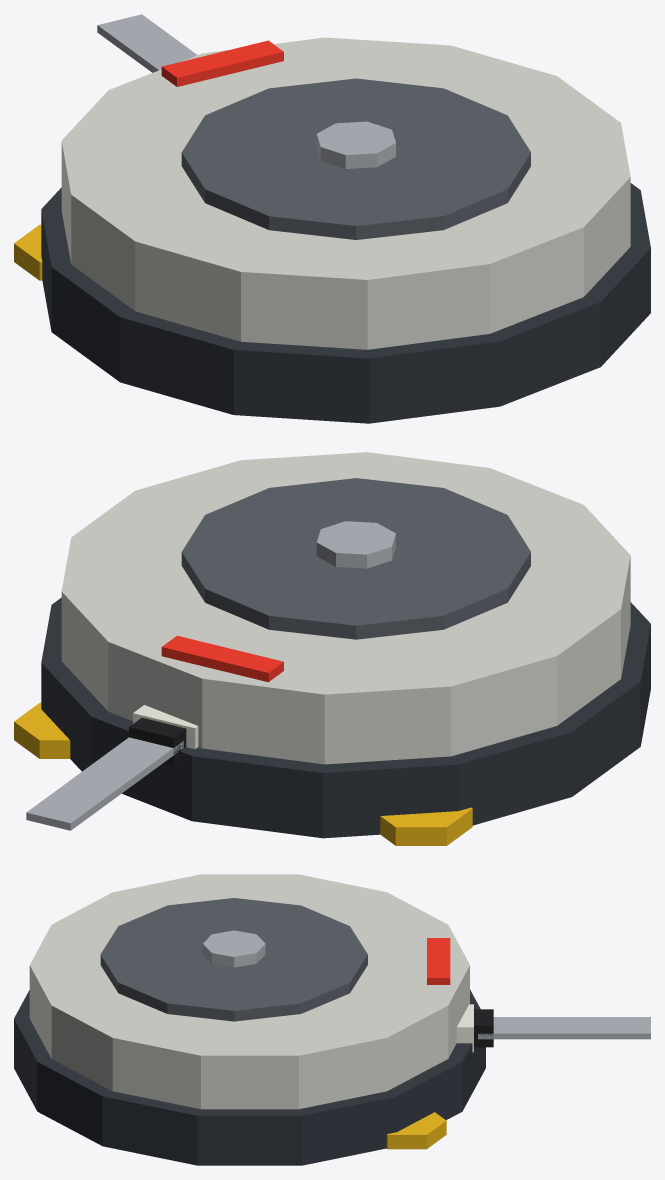
File: enemy_roomba.glb
The picture shows the model from 3 angles, top to bottom: view 1: azimuth 30°, elevation 25°; view 2: azimuth 150°, elevation 25°; view 3: azimuth 270°, elevation 25°; orthographic projection. The views are drawn at different scales.
Visible parts, largest first — view 1: enemy_roomba; view 2: enemy_roomba; view 3: enemy_roomba.
Part boxes in pixels (box(x1,y1,x2,y2)): enemy_roomba: box(14, 14, 650, 423); enemy_roomba: box(14, 452, 650, 845); enemy_roomba: box(14, 874, 650, 1165).
Size of the model in its own units: 0.585 by 0.175 by 0.81.
1 material, 1 textured.
